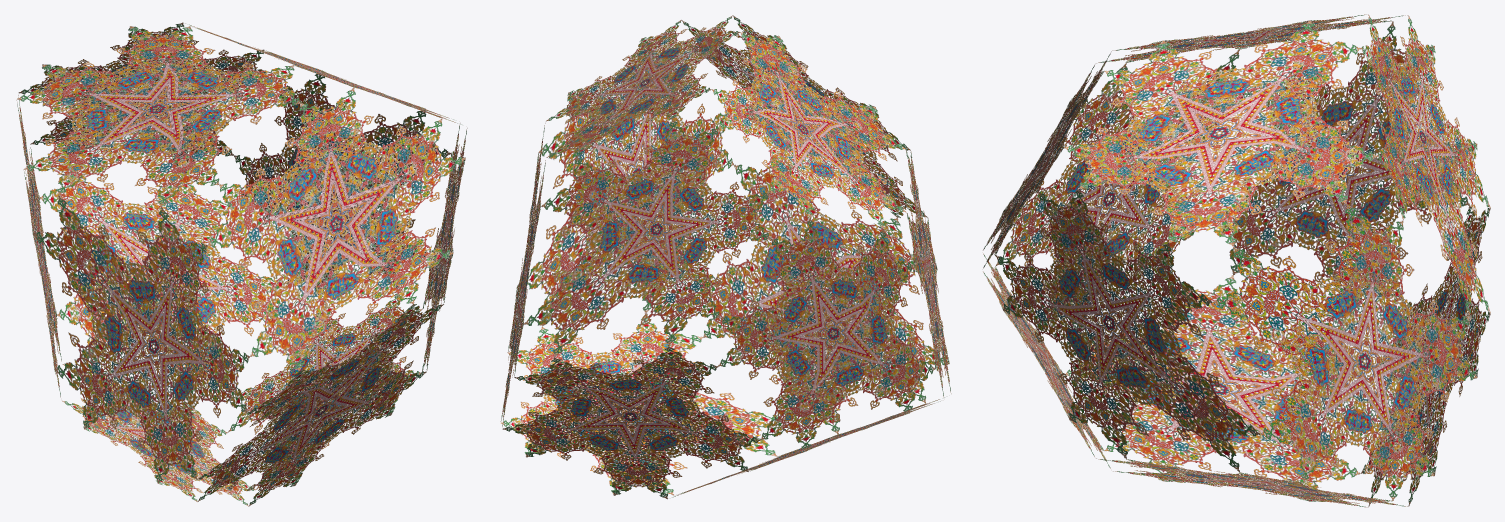
The model's file is Tetartoid4.obj.
The picture shows the model from 3 angles, left to right: view 1: azimuth 30°, elevation 25°; view 2: azimuth 150°, elevation 25°; view 3: azimuth 270°, elevation 25°; orthographic projection. The views are drawn at different scales.
Size of the model in its own units: 22 by 22 by 22.
Materials: 1 (1 with a texture image).
